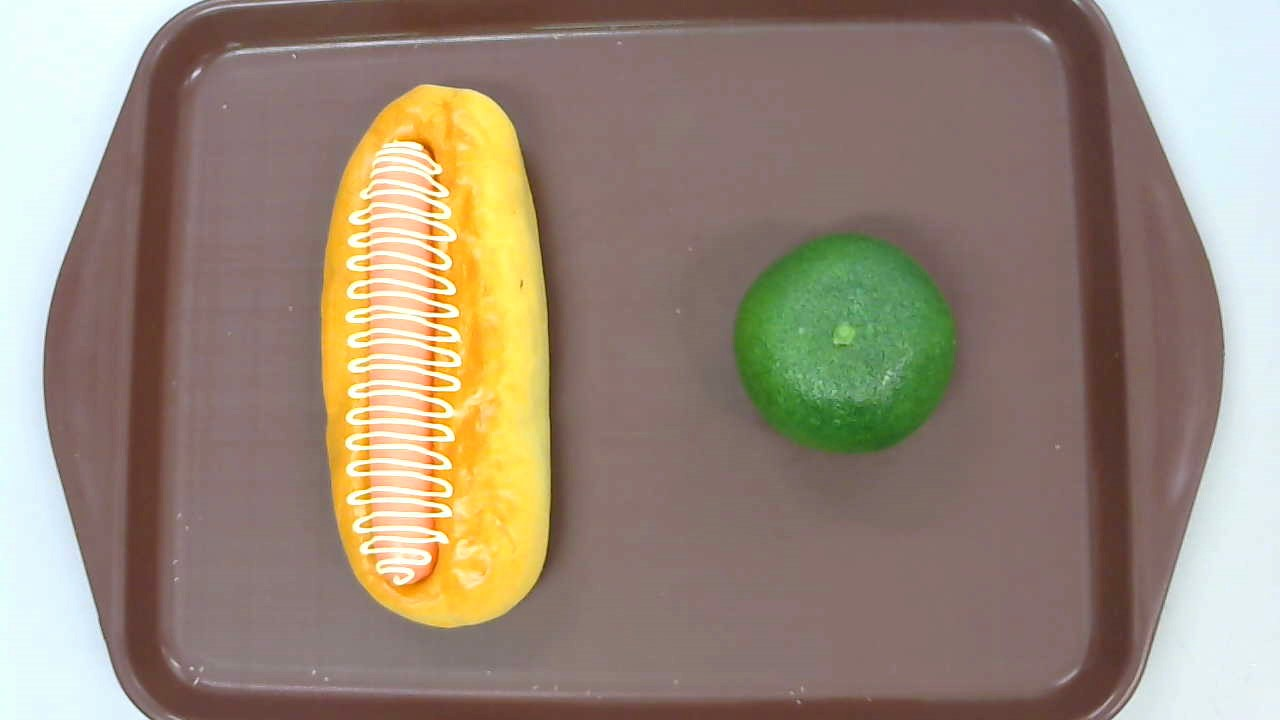green orange: (734, 234, 957, 454)
hot dog: (318, 84, 553, 627)
